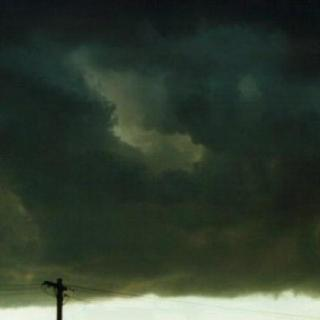Stratocumulus: (0, 0, 320, 302)
